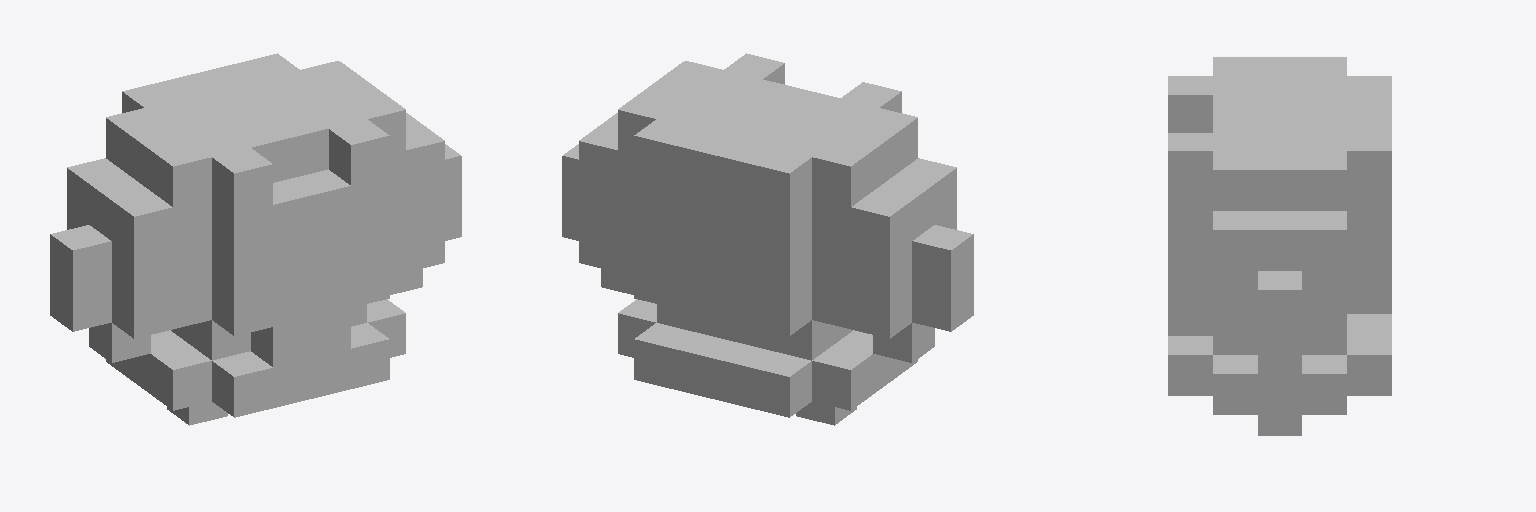
File: Body 10.obj
3 renders of one model, left to right at view 1: azimuth 30°, elevation 25°; view 2: azimuth 150°, elevation 25°; view 3: azimuth 270°, elevation 25°, orthographic.
Size of the model in its own units: 10 by 7 by 5.